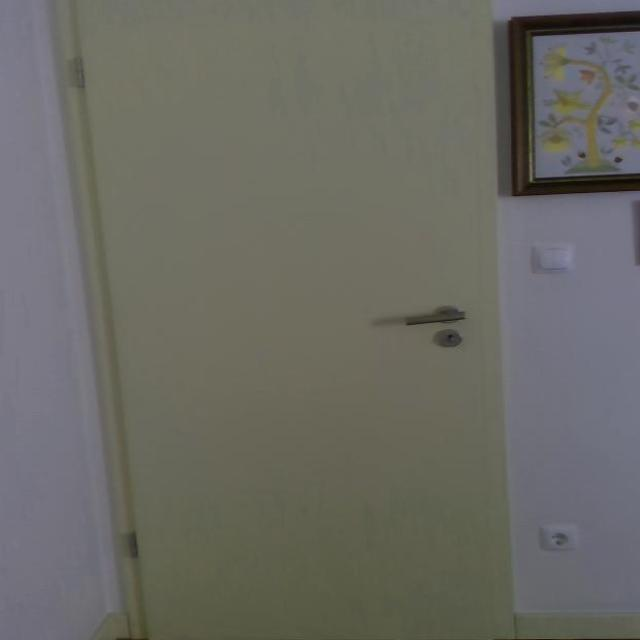door: (60, 0, 517, 639)
